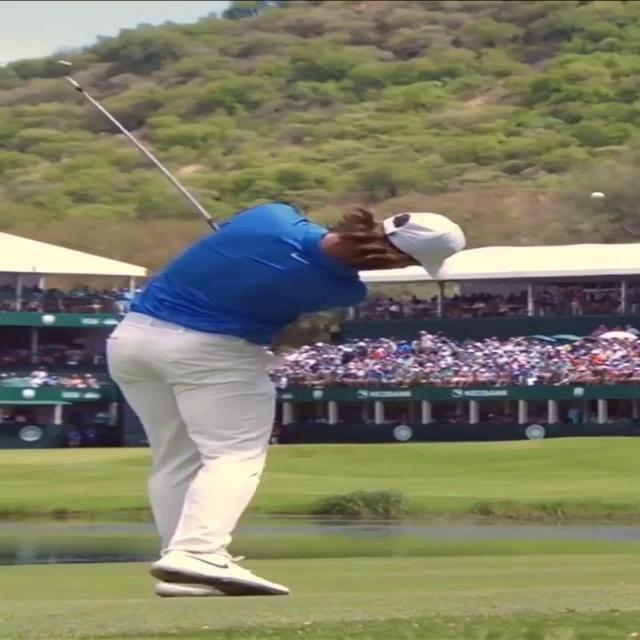ClubHead: (53, 64, 77, 81)
